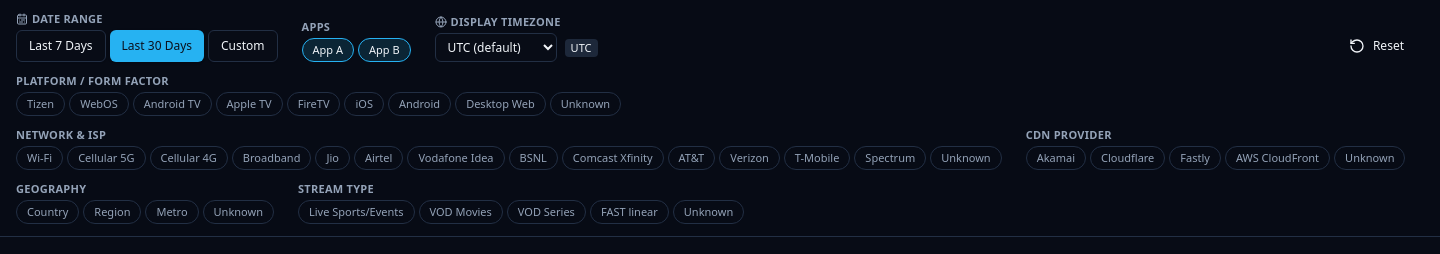
Test: GlobalFilterBar › defaults the display timezone to UTC and labels the active zone (Req 26.8, 26.9)
Expected: the text with test id "active-timezone" reads "UTC", [571, 40, 592, 54]
Select "India" in the dropdown labelled "Display timezone": (496, 48) [435, 33, 557, 62]
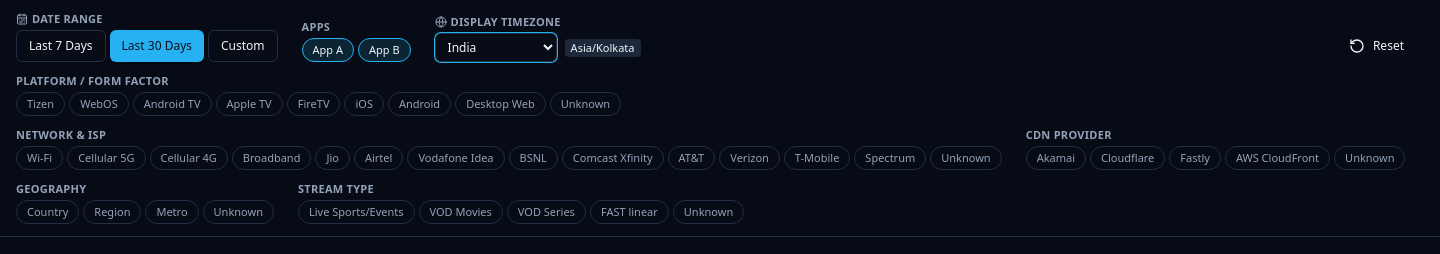
Result: the text with test id "active-timezone" reads "Asia/Kolkata" at [571, 40, 634, 54]
